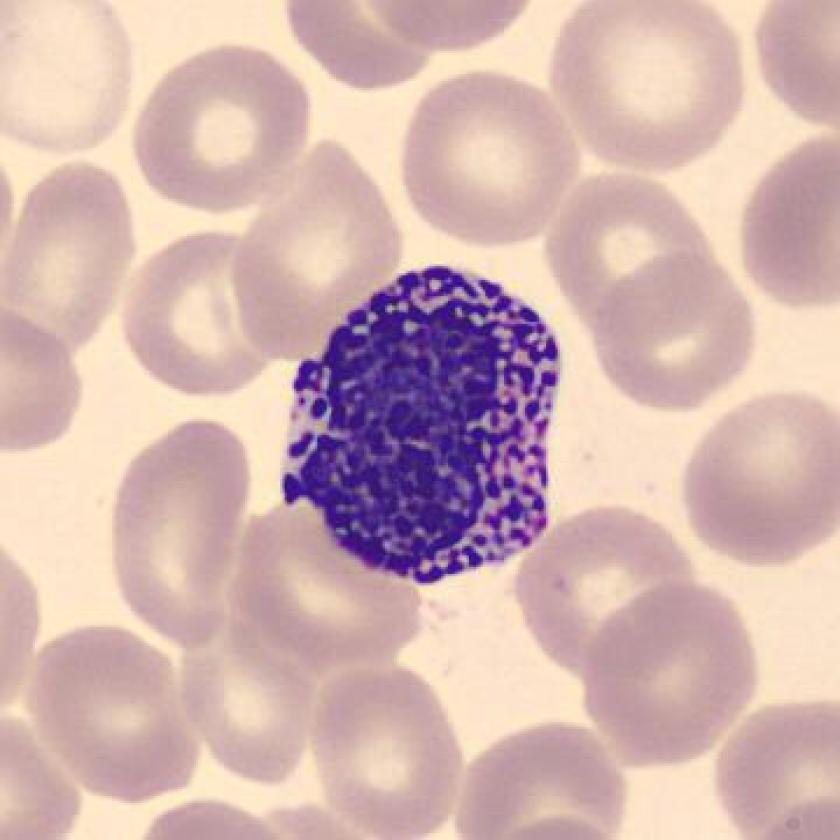basophil: (293, 265, 568, 584)
